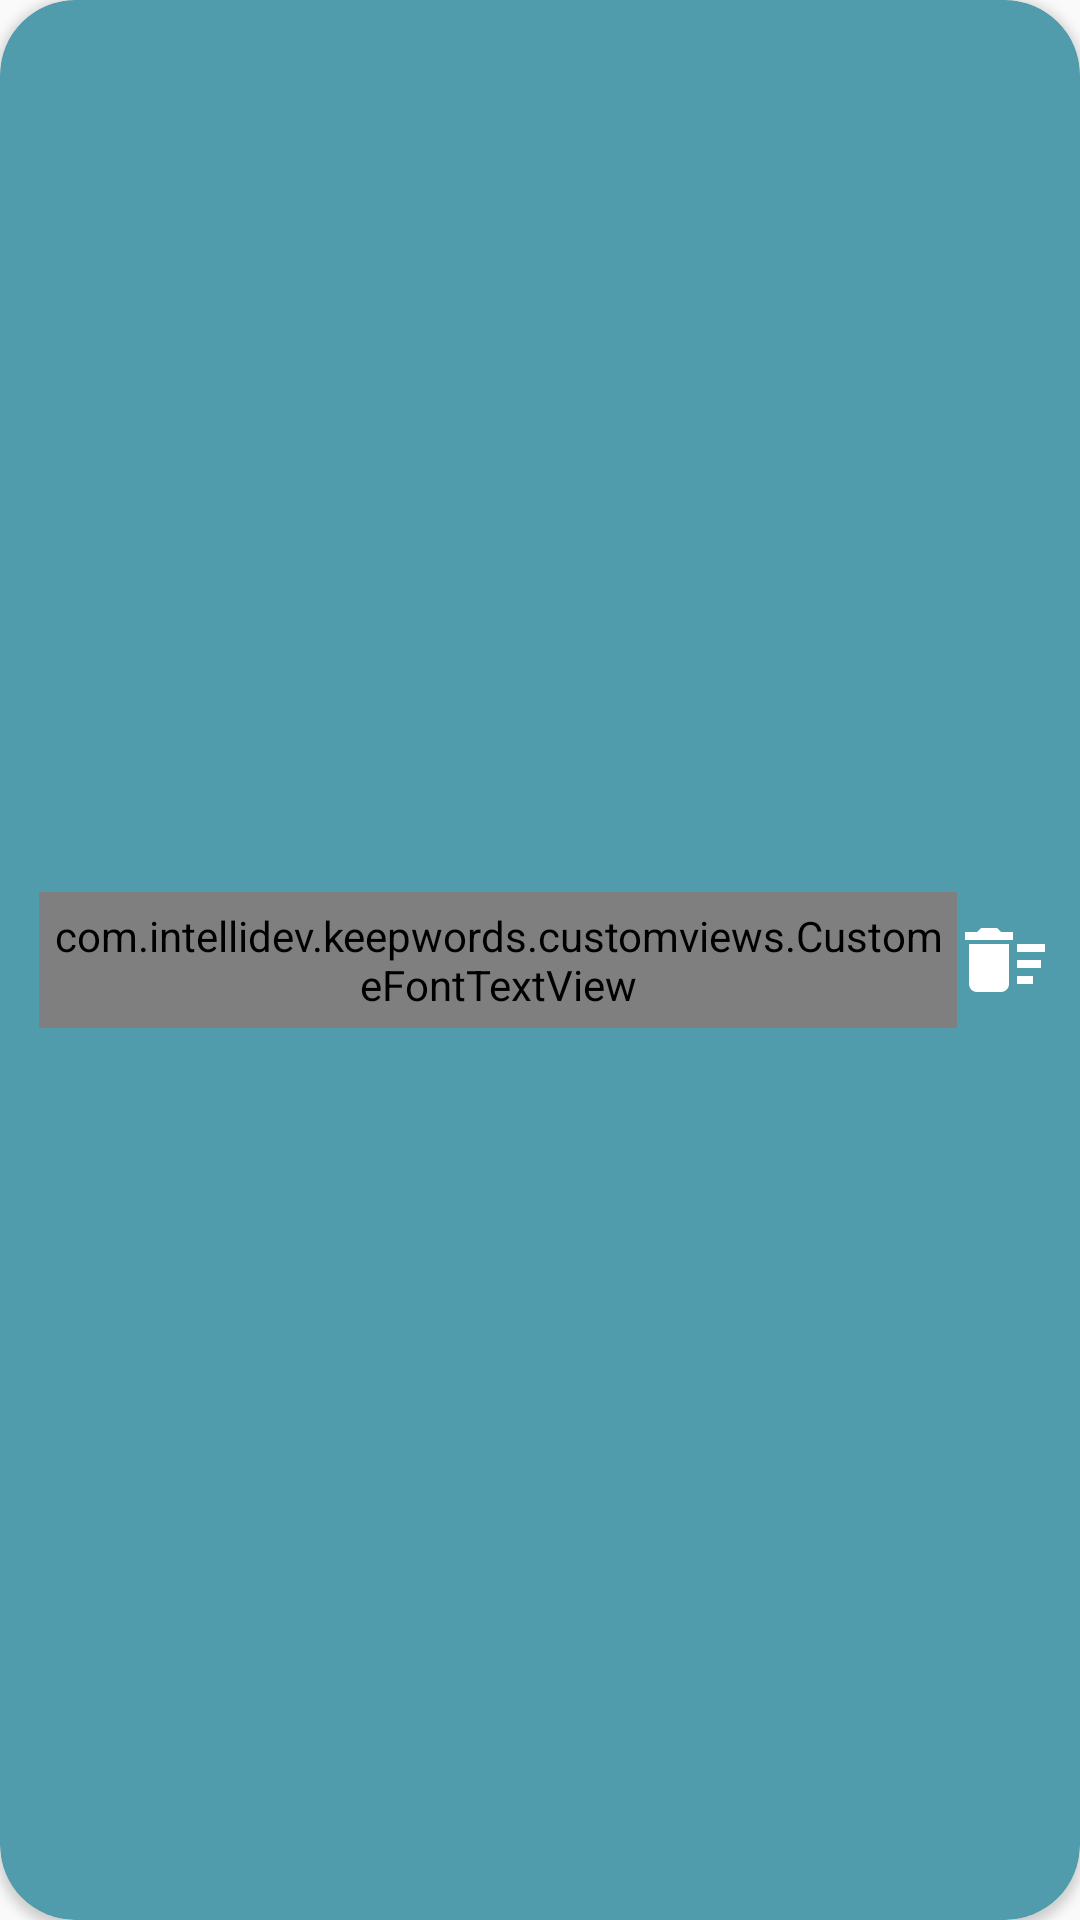

Named icons in this screenshot (1080*1920) and their centers, (x=x, y=y):
delete sweep: (x=1005, y=960)
